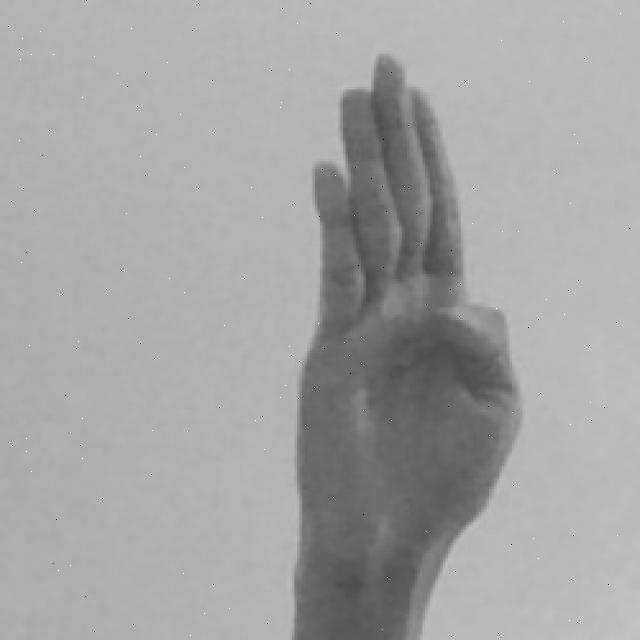B: (295, 52, 523, 632)
